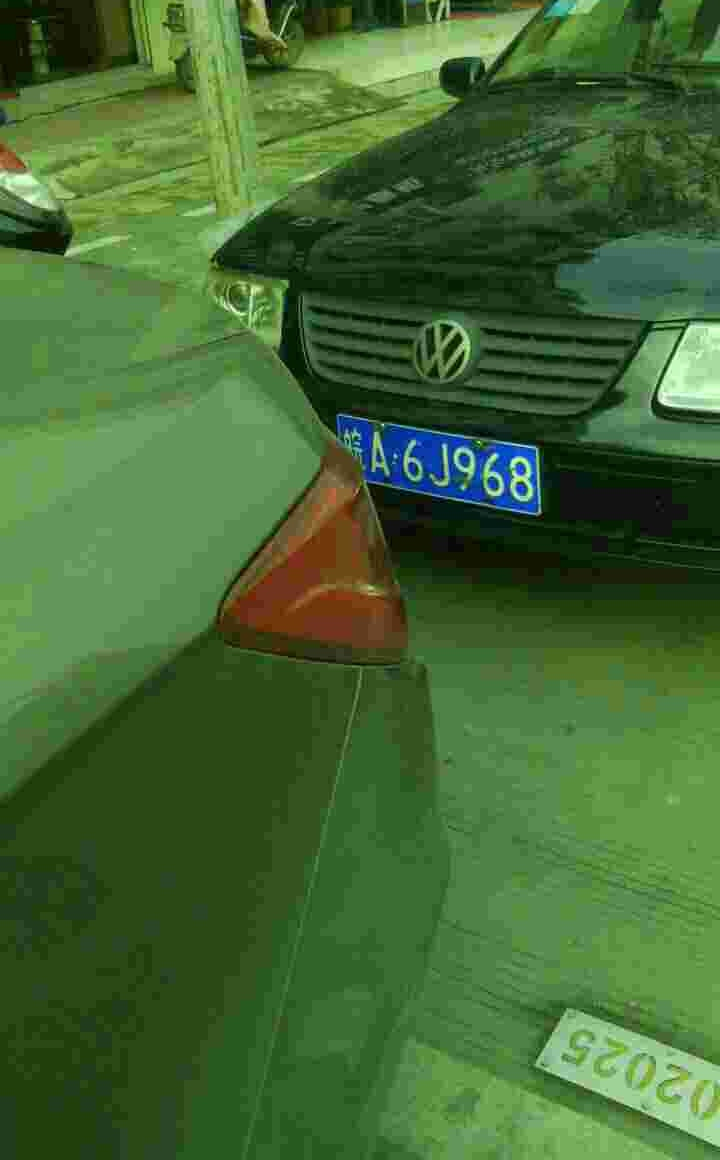car: (336, 415, 551, 515)
